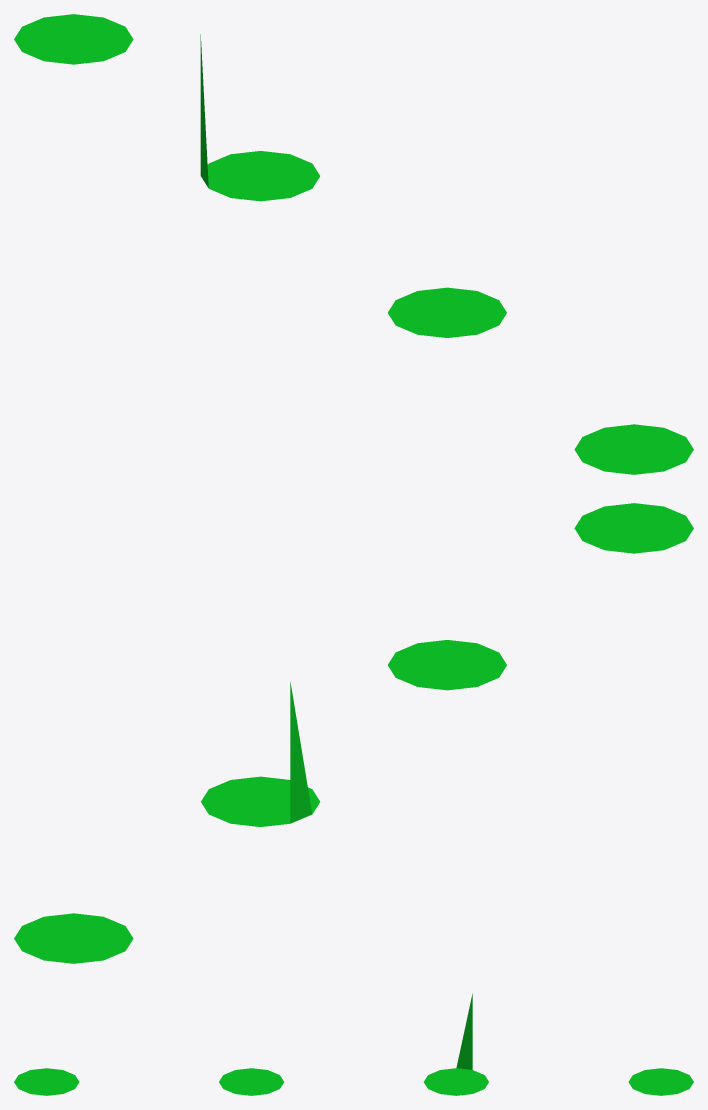
File: bpx_body_004.obj
The picture shows the model from 3 angles, top to bottom: view 1: azimuth 30°, elevation 25°; view 2: azimuth 150°, elevation 25°; view 3: azimuth 270°, elevation 25°; orthographic projection. The views are drawn at different scales.
Parts seen in each view (by area): view 1: base_link; view 2: base_link; view 3: base_link.
Part boxes in pixels (box(x1,y1,x2,y2)): base_link: box(14, 14, 693, 474); base_link: box(14, 503, 693, 963); base_link: box(14, 993, 693, 1095).
Bounding box in the file's own units: 0.0032 × 0.0042 × 0.0332.
